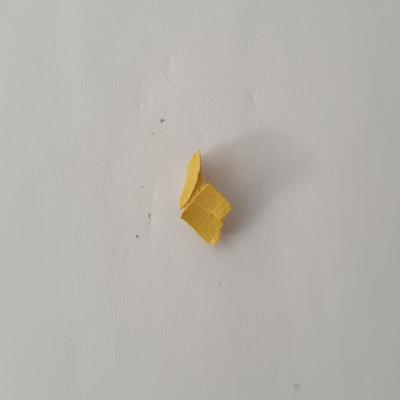plastic: (175, 143, 235, 256)
